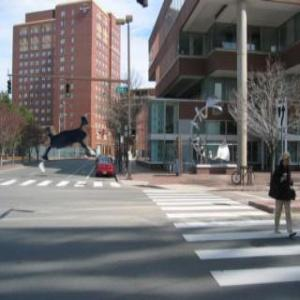drone: (25, 98, 116, 189)
